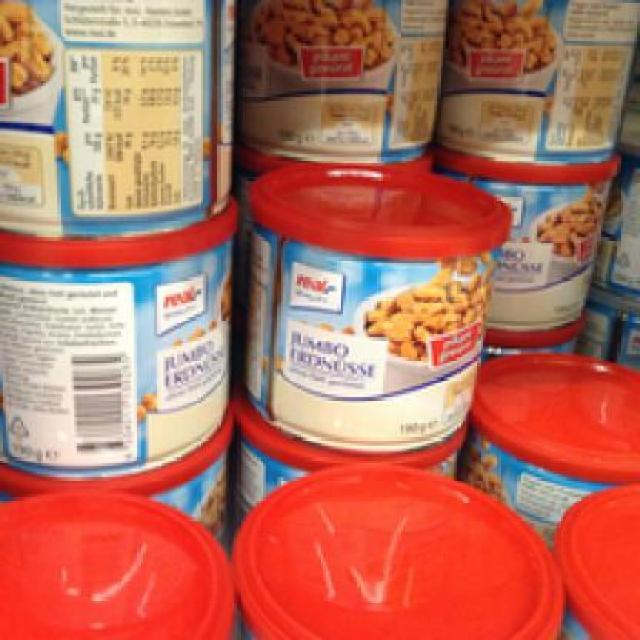Nuts: (242, 157, 515, 454), (0, 212, 237, 478), (0, 0, 232, 238), (234, 0, 446, 157), (424, 0, 635, 152), (440, 152, 617, 328)
